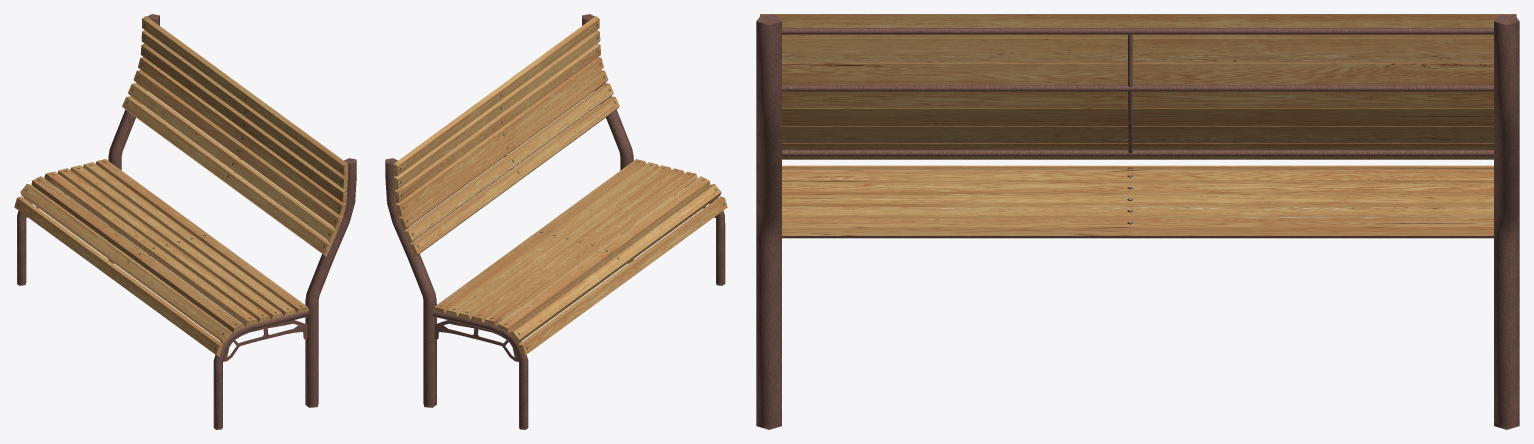
Rendered from klupa117.obj.
3 renders of one model, left to right at view 1: azimuth 30°, elevation 25°; view 2: azimuth 150°, elevation 25°; view 3: azimuth 270°, elevation 25°, orthographic. The views are drawn at different scales.
Parts seen in each view (by area): view 1: drvoKlupa117, farbaKlupa117; view 2: drvoKlupa117, farbaKlupa117; view 3: drvoKlupa117, farbaKlupa117.
Boxes of the visible parts, bbox=[...] form: drvoKlupa117: bbox=[14, 16, 347, 356]; farbaKlupa117: bbox=[17, 14, 356, 429]; drvoKlupa117: bbox=[394, 16, 727, 357]; farbaKlupa117: bbox=[385, 14, 725, 429]; drvoKlupa117: bbox=[760, 14, 1516, 235]; farbaKlupa117: bbox=[756, 15, 1519, 429].
Bounding box in the file's own units: 18.57 × 29.18 × 45.81.
3 materials, 3 textured.
